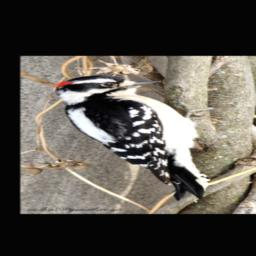Woodpecker: (55, 75, 213, 201)
